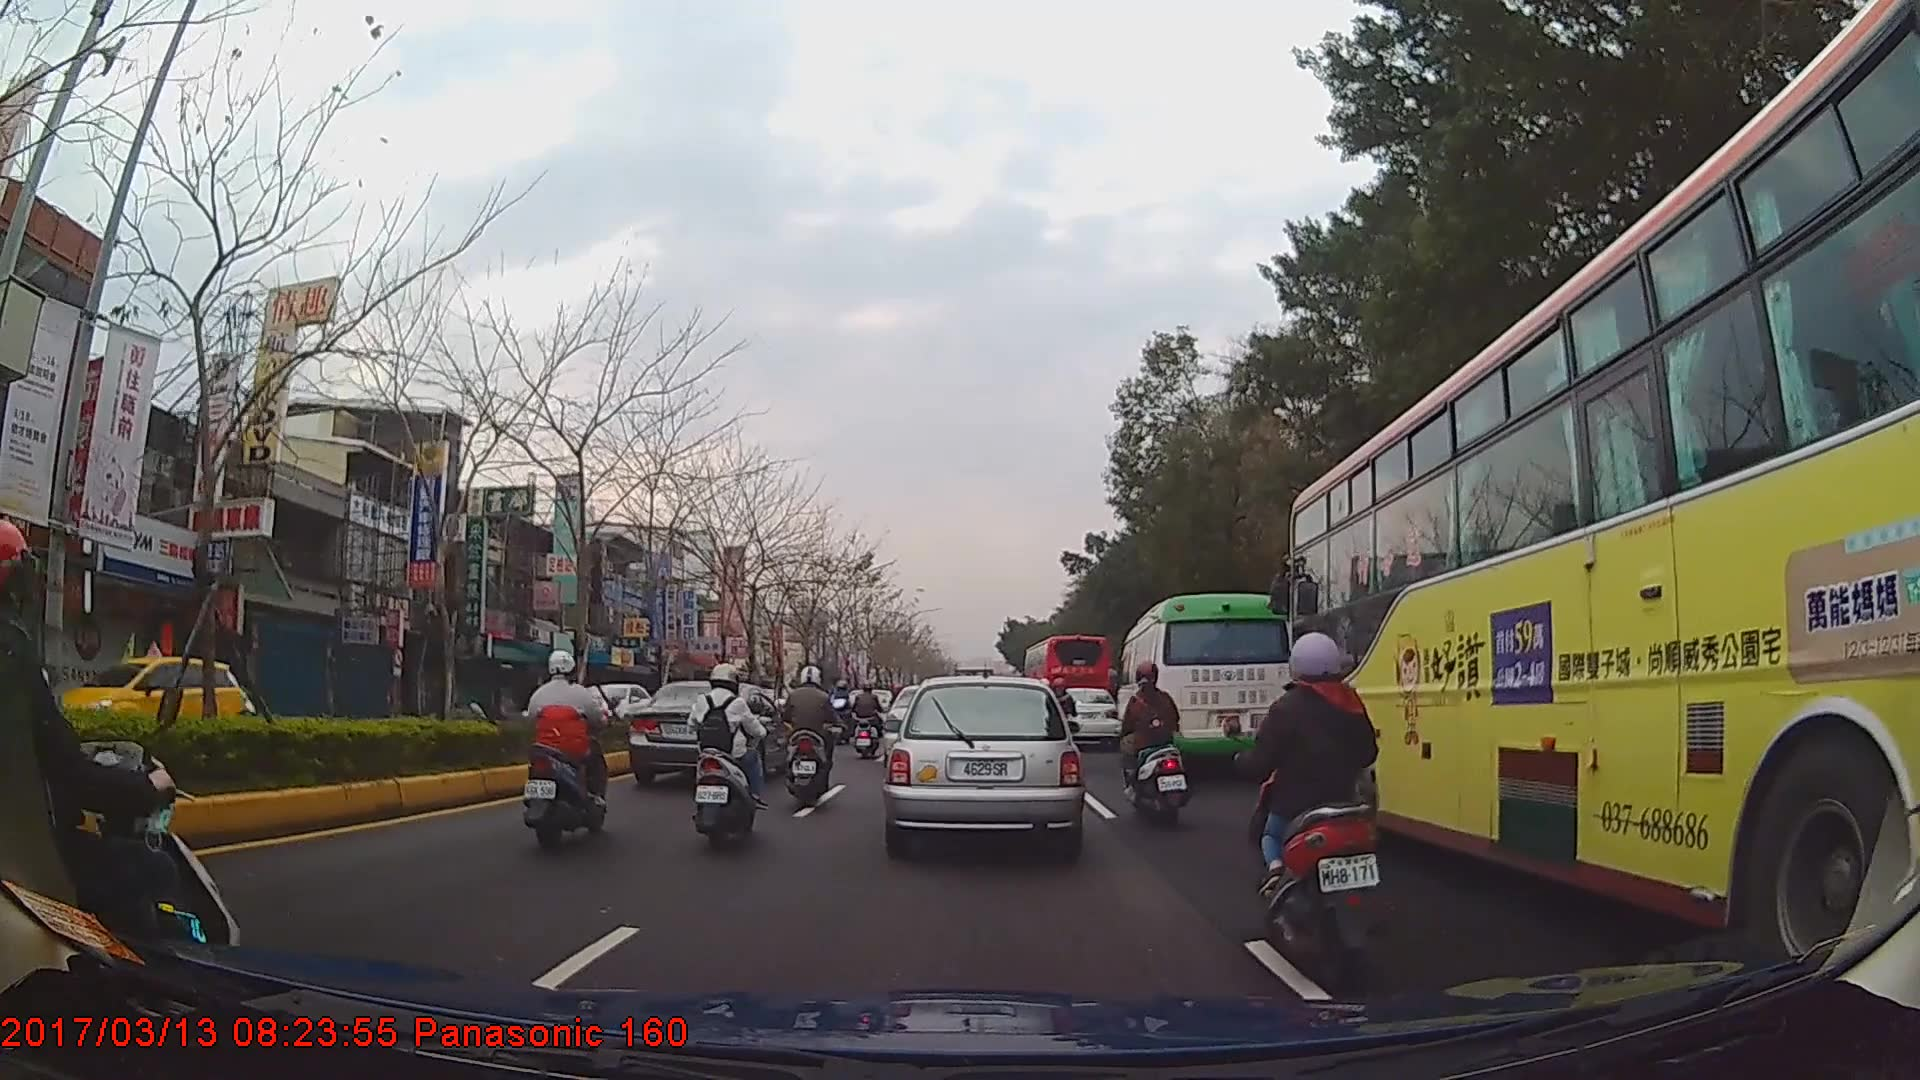rider: (1, 523, 246, 987), (1251, 625, 1389, 984), (525, 648, 611, 851), (685, 661, 764, 852), (1119, 661, 1188, 821), (780, 666, 845, 809), (850, 681, 888, 762), (834, 680, 857, 726)
vehicle: (1284, 0, 1920, 1021), (883, 671, 1085, 855), (1115, 591, 1292, 782), (50, 638, 249, 753), (627, 677, 792, 789), (1022, 632, 1110, 742), (1050, 684, 1119, 745)
